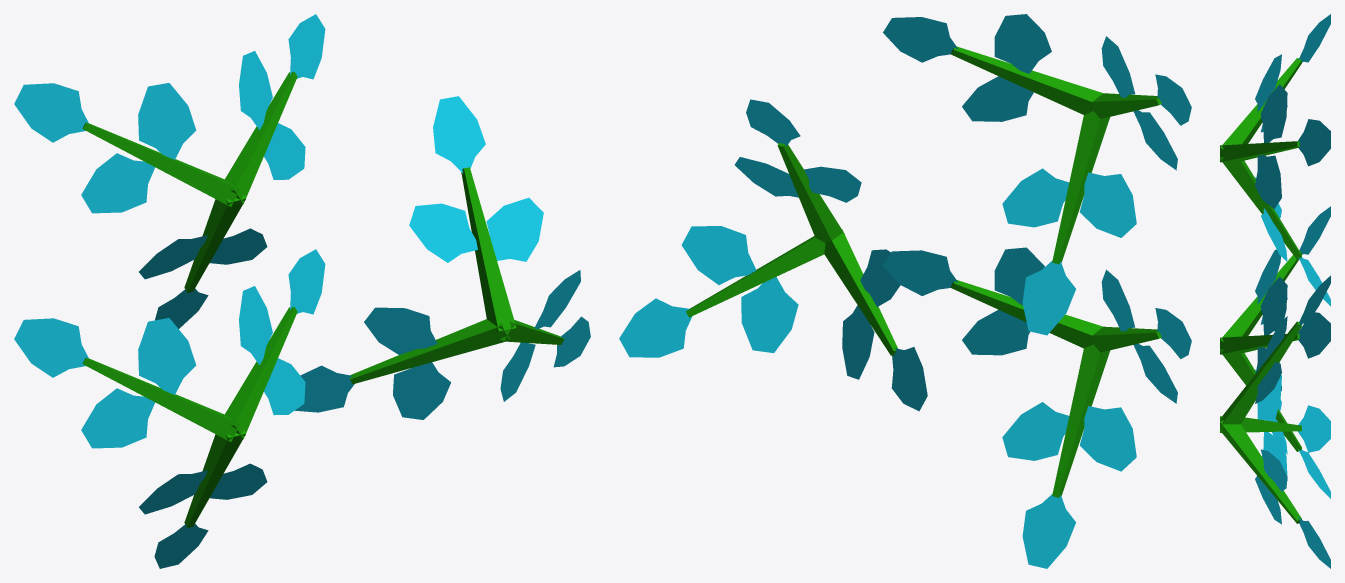
Rendered from SpeedHarb.fbx.
3 views of the same model, side by side, from view 1: azimuth 30°, elevation 25°; view 2: azimuth 150°, elevation 25°; view 3: azimuth 270°, elevation 25° (orthographic). The views are drawn at different scales.
Parts seen in each view (by area): view 1: 平面.002; view 2: 平面.002; view 3: 平面.002.
Boxes of the visible parts, x1,y1,x2,y2 form: 平面.002: [14, 14, 590, 568]; 平面.002: [619, 14, 1191, 568]; 平面.002: [1220, 14, 1330, 568].
Size of the model in its own units: 26.61 by 23.08 by 5.42.
